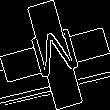M_S: (26, 24, 84, 86)
